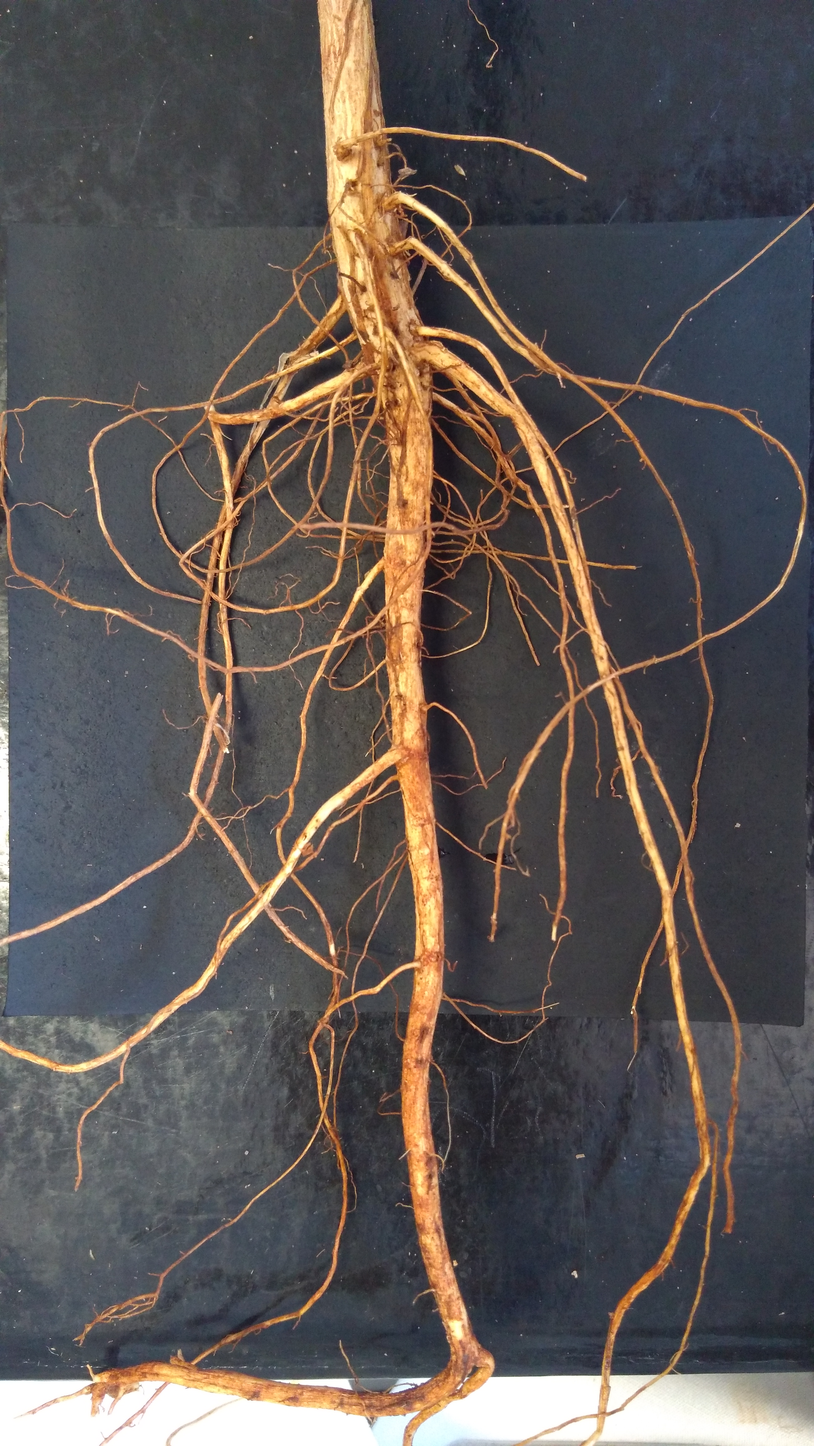nodule: (332, 140, 353, 161), (398, 167, 418, 180), (301, 841, 315, 857), (393, 206, 405, 220), (416, 629, 424, 647), (341, 359, 353, 370), (321, 245, 334, 253), (608, 1311, 615, 1320), (571, 1270, 578, 1278), (452, 1259, 458, 1266)
